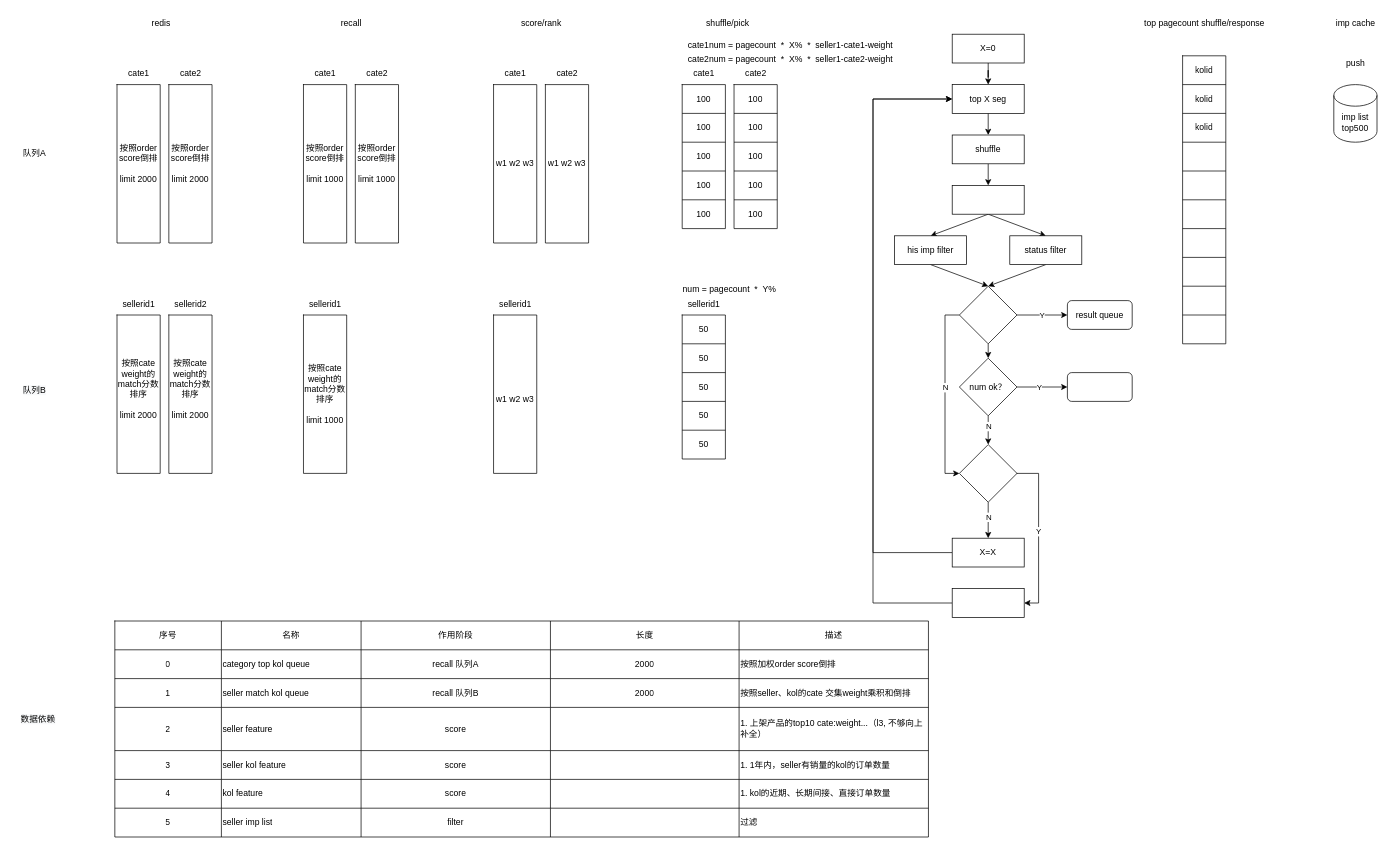
The diagram is 1396 pixels wide and 850 high, and some of its shapes have lost their labels. Here are the shapes that lost their labels. From the top down, the centre of each, then its label:
At (987,199): "pop one".
At (988,314): "succ？".
At (1099,386): "end".
At (988,473): "X seg empty？".
At (987,602): "X=X+1".
